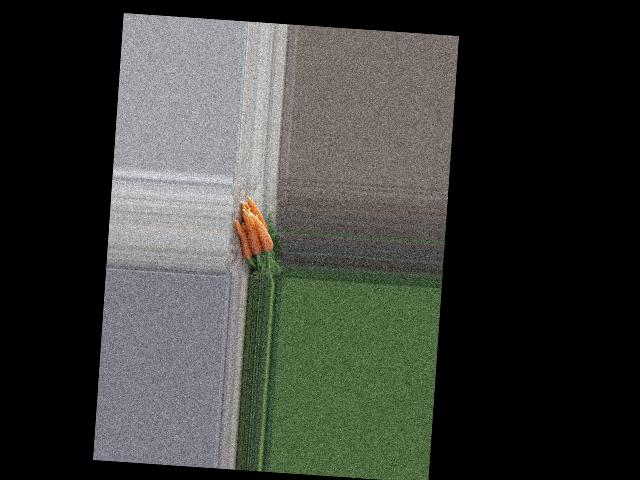carrot: (234, 217, 253, 263)
